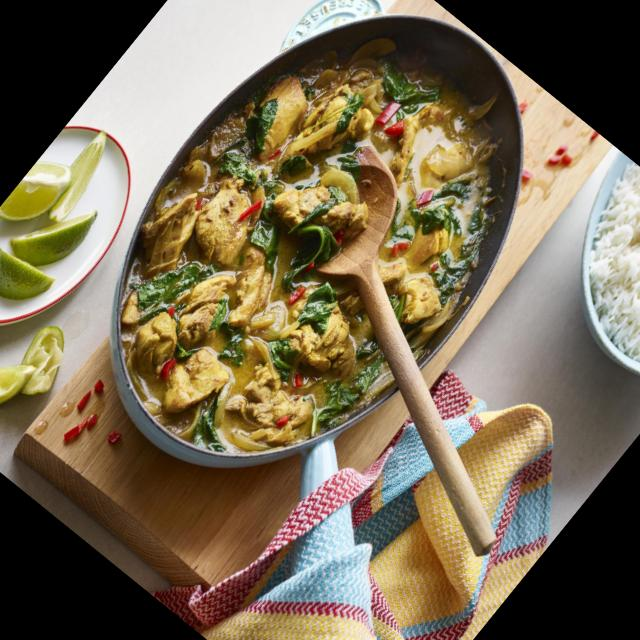chicken: (47, 0, 600, 532)
rice: (538, 162, 640, 391)
